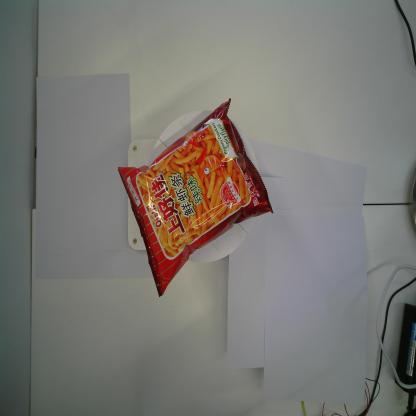Puffed Food: (117, 97, 273, 298)
